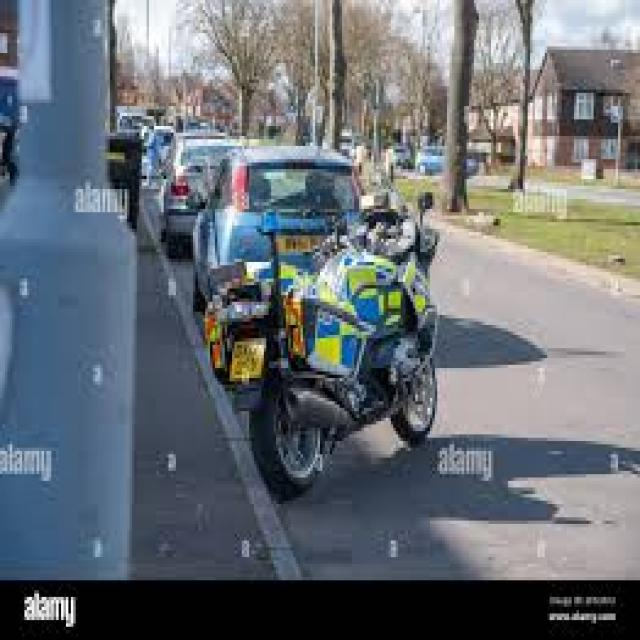bike: (215, 192, 441, 452)
car: (202, 154, 377, 281), (160, 138, 223, 232), (414, 146, 471, 180), (386, 145, 410, 173)
